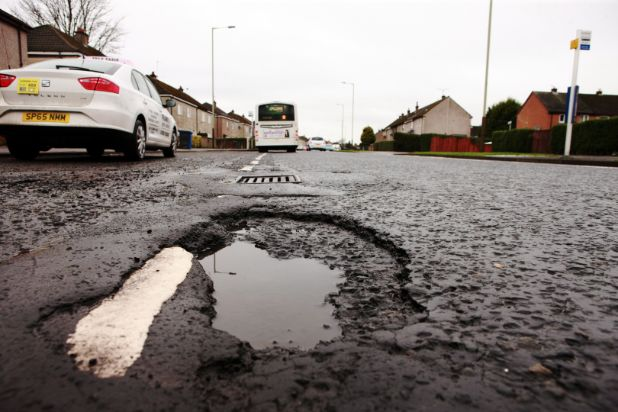pothole: (192, 200, 437, 359), (33, 222, 193, 381)
